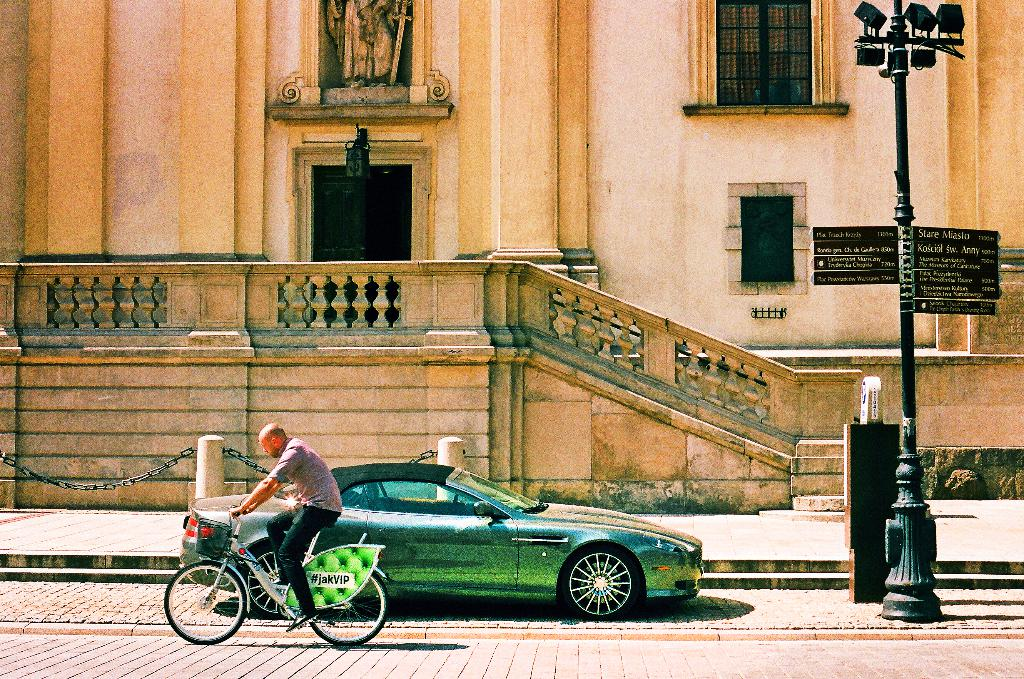Bike: (165, 508, 389, 645)
